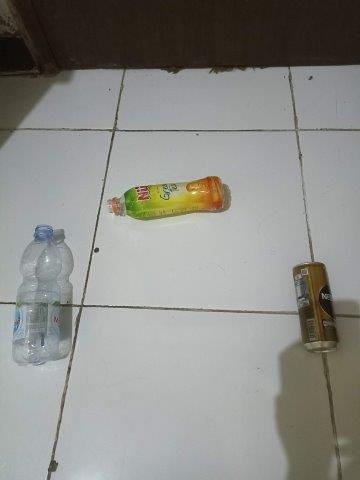botolplastik: (12, 225, 60, 366), (108, 176, 226, 219)
kaleng: (292, 261, 339, 353)
